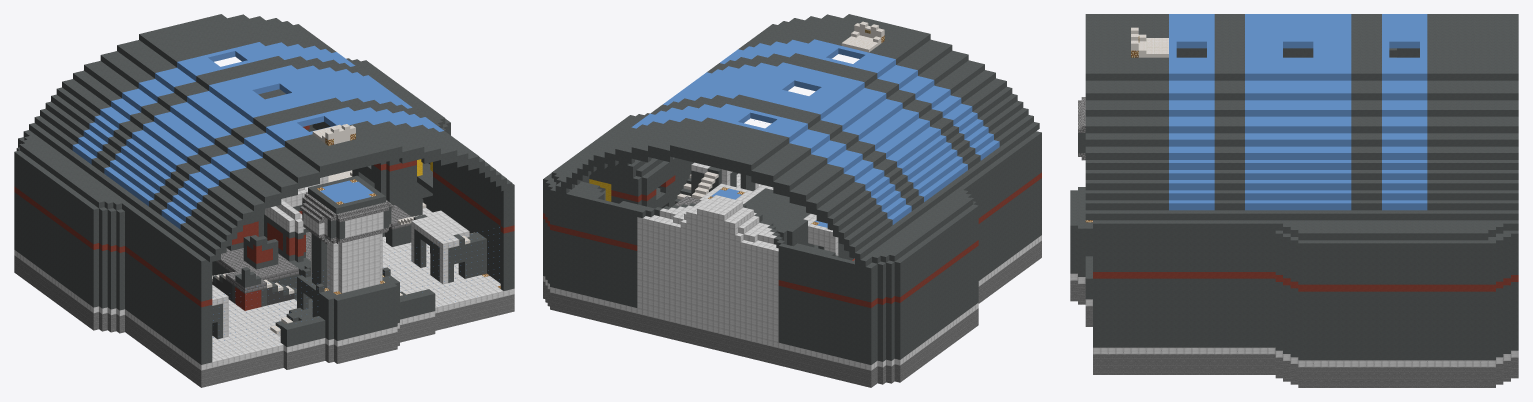
The model's file is minecraft.obj.
The picture shows the model from 3 angles, left to right: view 1: azimuth 30°, elevation 25°; view 2: azimuth 150°, elevation 25°; view 3: azimuth 270°, elevation 25°; orthographic projection. The views are drawn at different scales.
Size of the model in its own units: 65 by 36.5 by 59.
